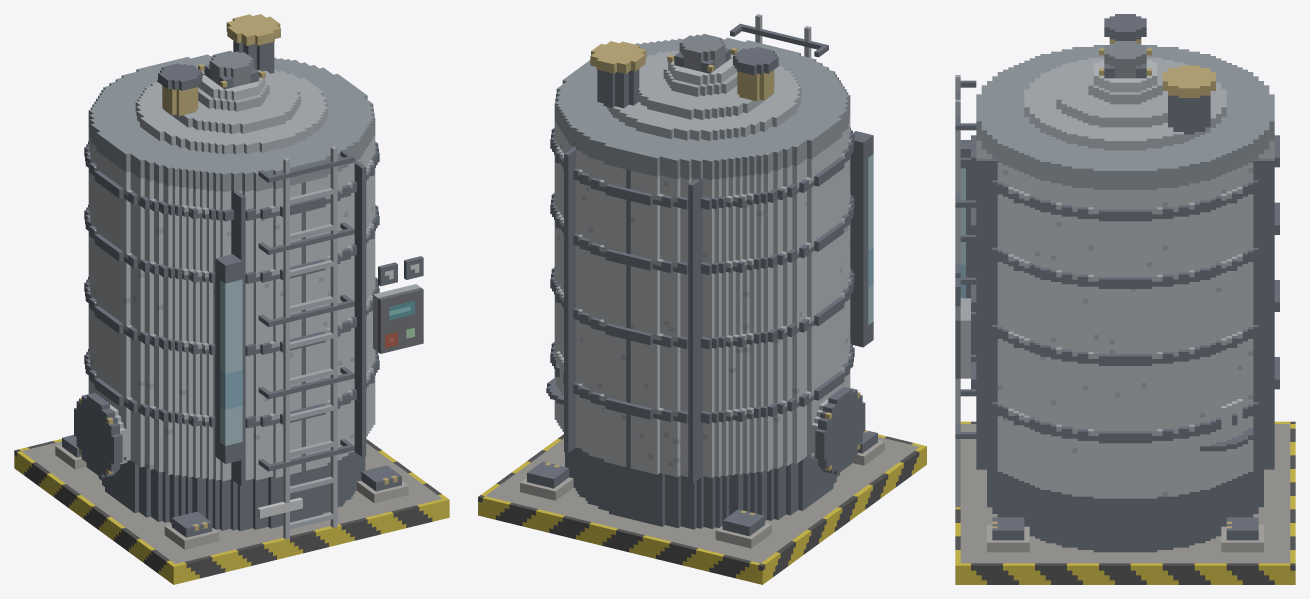
Rendered from water_tank.glb.
3 renders of one model, left to right at view 1: azimuth 30°, elevation 25°; view 2: azimuth 150°, elevation 25°; view 3: azimuth 270°, elevation 25°, orthographic. The views are drawn at different scales.
Parts seen in each view (by area): view 1: water_tank; view 2: water_tank; view 3: water_tank.
Boxes of the visible parts, x1,y1,x2,y2 form: water_tank: [14, 14, 449, 584]; water_tank: [478, 14, 926, 584]; water_tank: [955, 14, 1295, 584].
Size of the model in its own units: 2 by 3 by 2.
